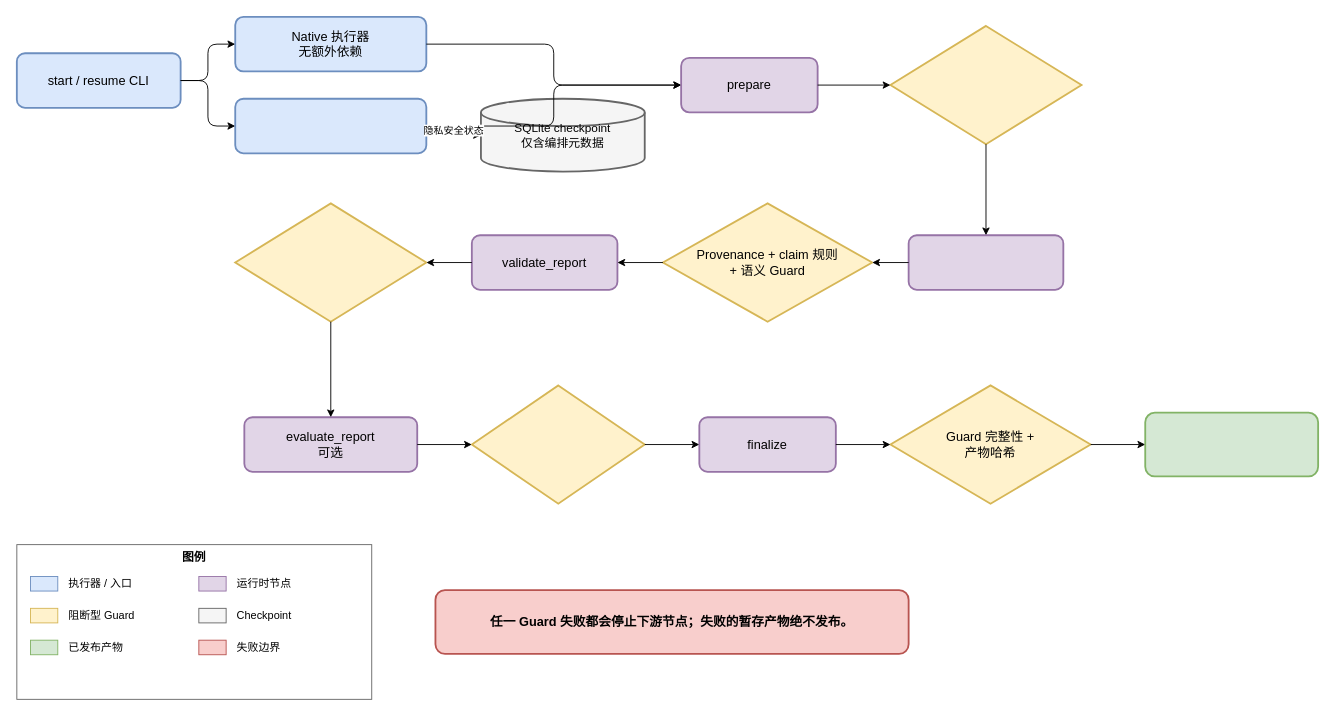
Image size: 1334x715. Some labels were removed from this diagram. The centre of each missing label's shape, as x and y in pixels:
"generate_report" belongs at point (985, 262).
"LangGraph StateGraph 可选后端" belongs at point (330, 125).
"Schema + 来源哈希 Guard" belongs at point (985, 85).
"产物哈希 + HTML Guard" belongs at point (330, 262).
"最终 HTML + provenance sidecar" belongs at point (1231, 444).
"评测 Guard" belongs at point (557, 444).
